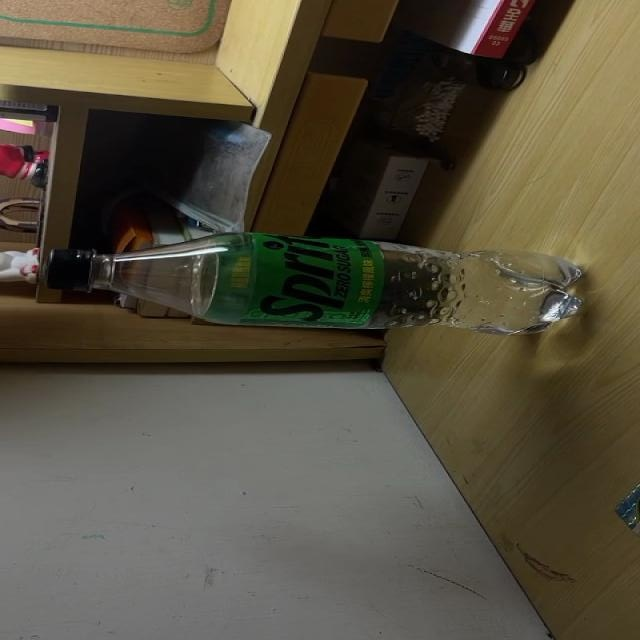Sprite: (43, 232, 584, 335)
